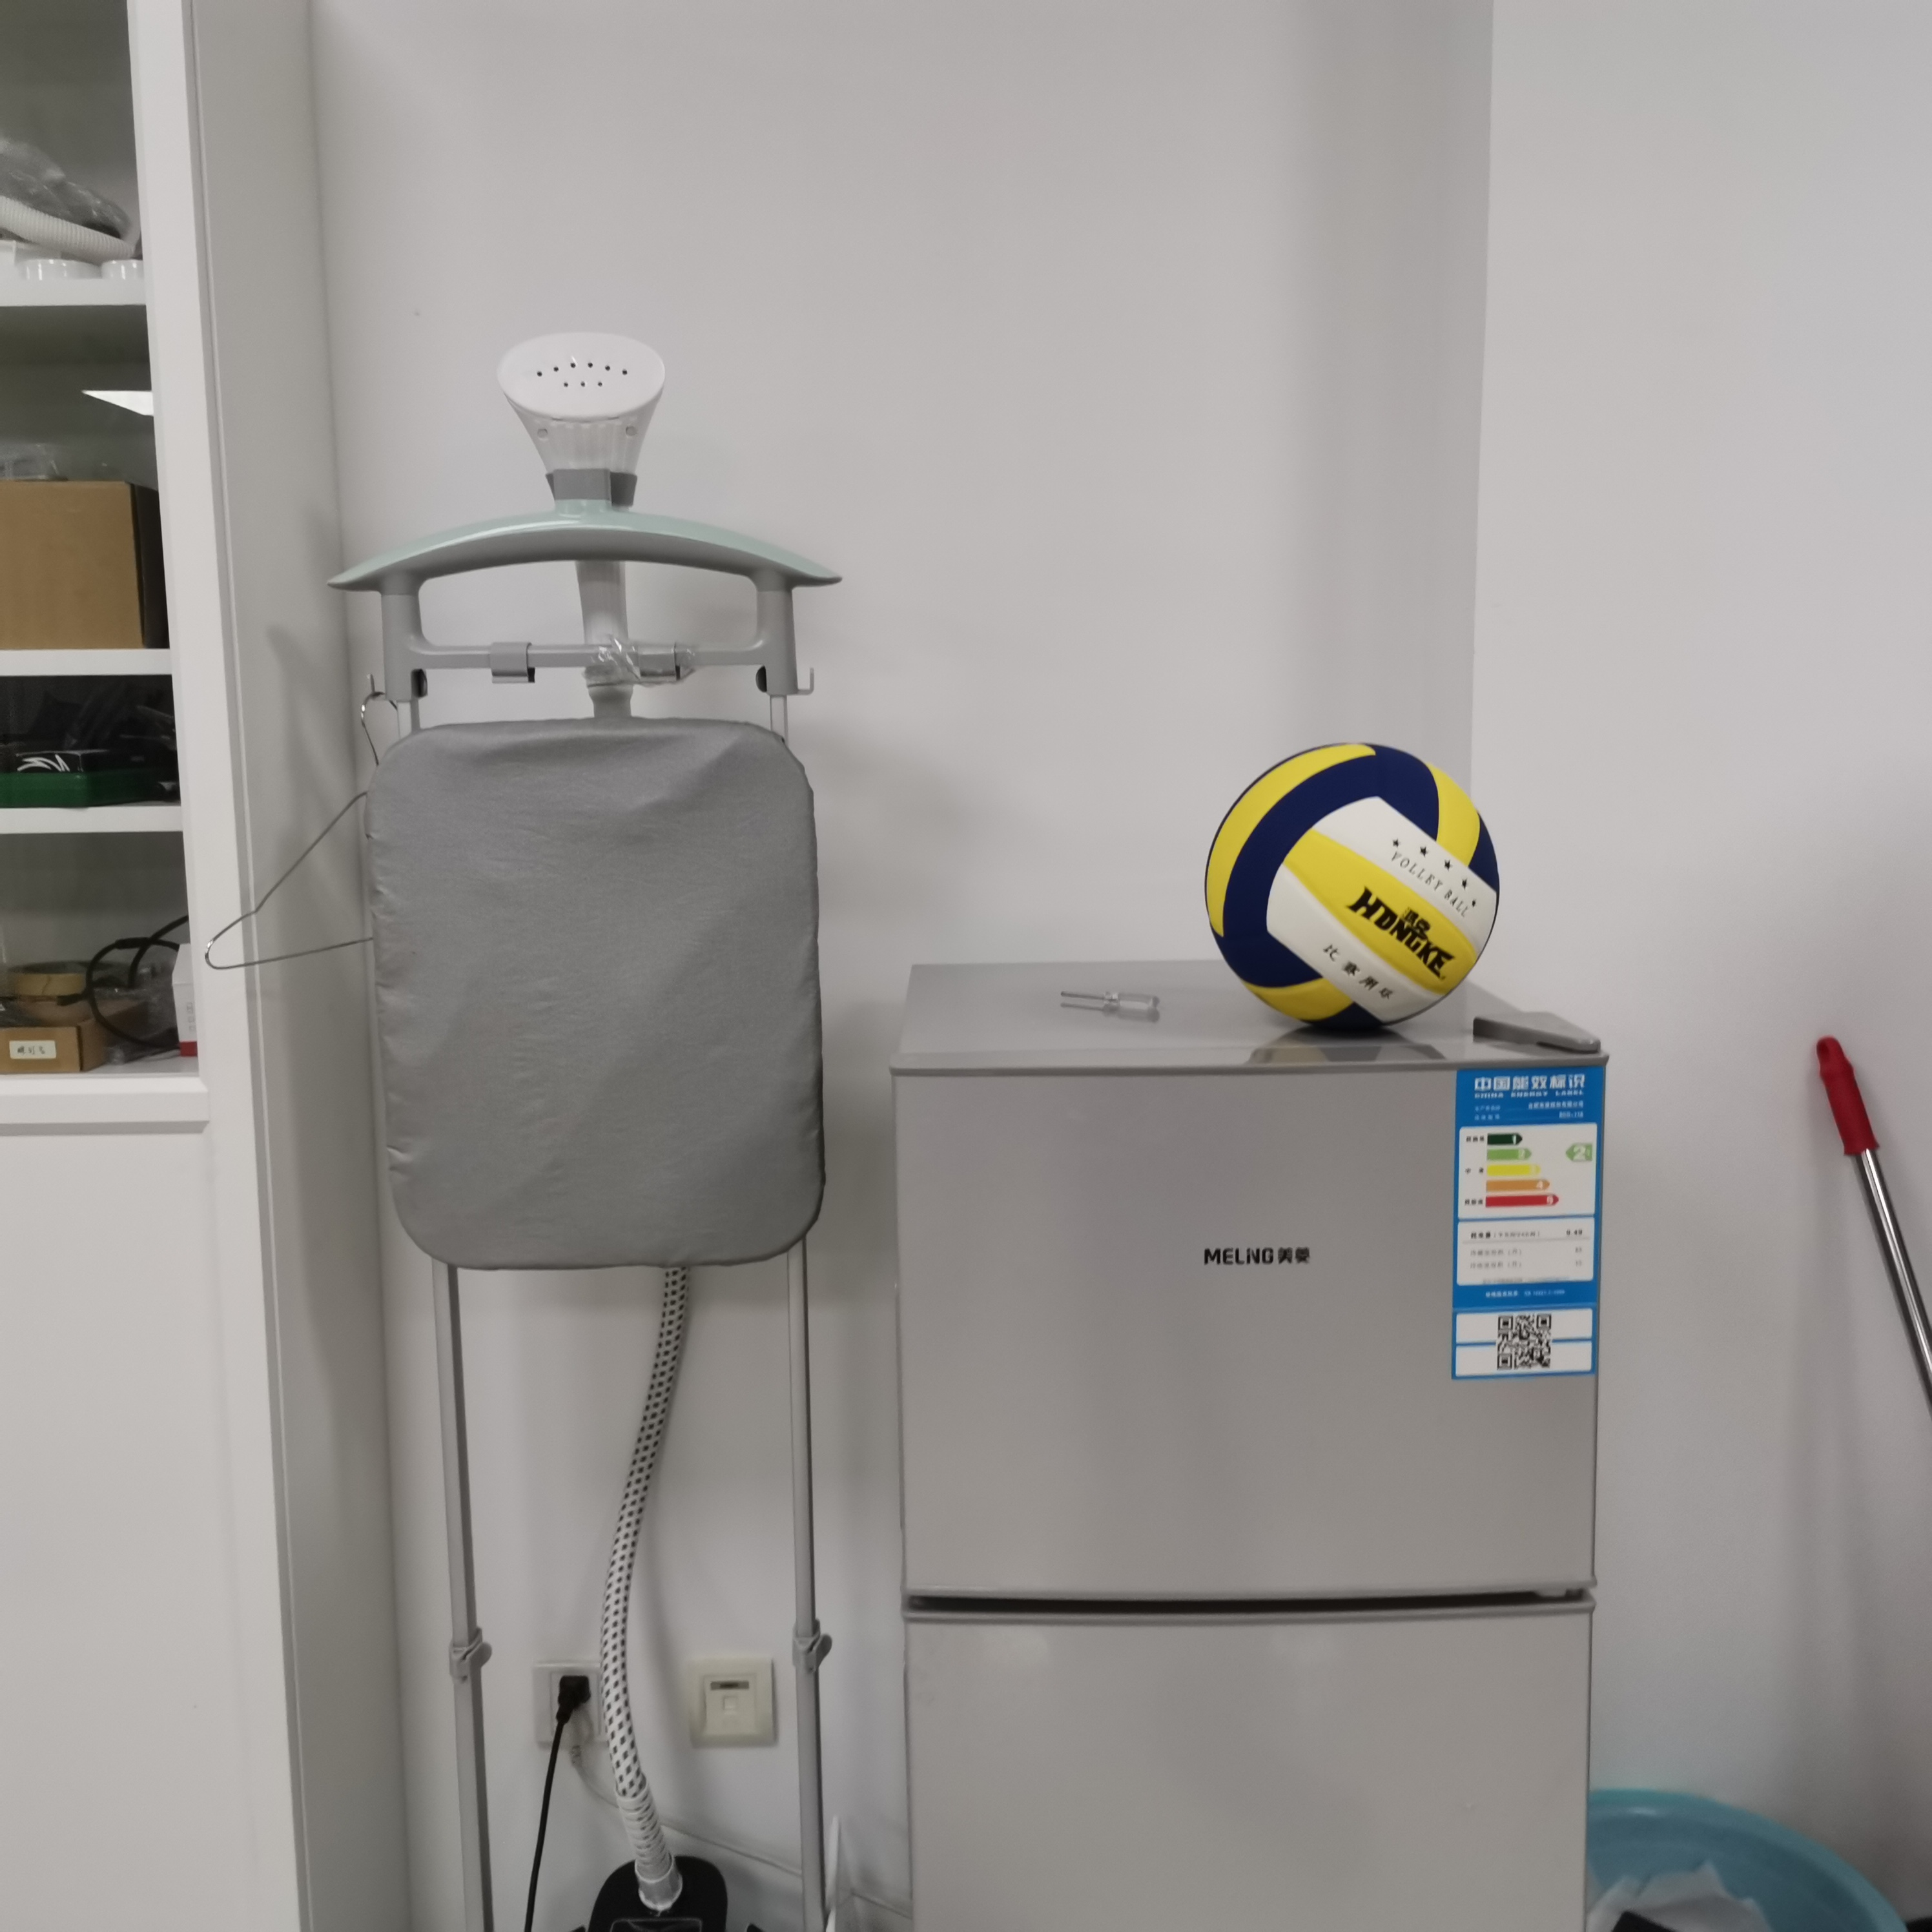volleyball: (1207, 741, 1504, 1031)
